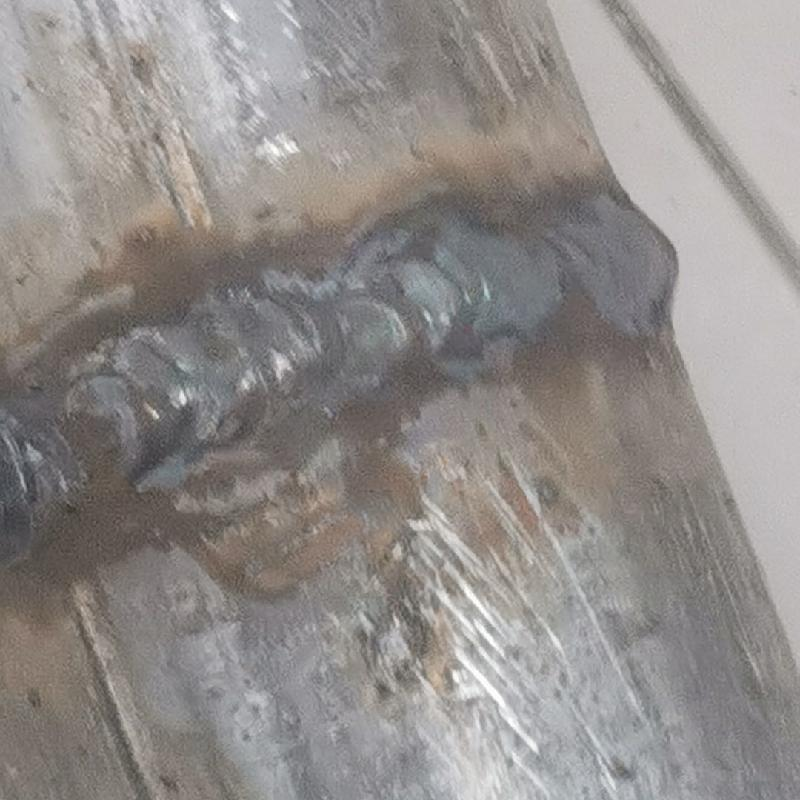good: (3, 174, 680, 537)
